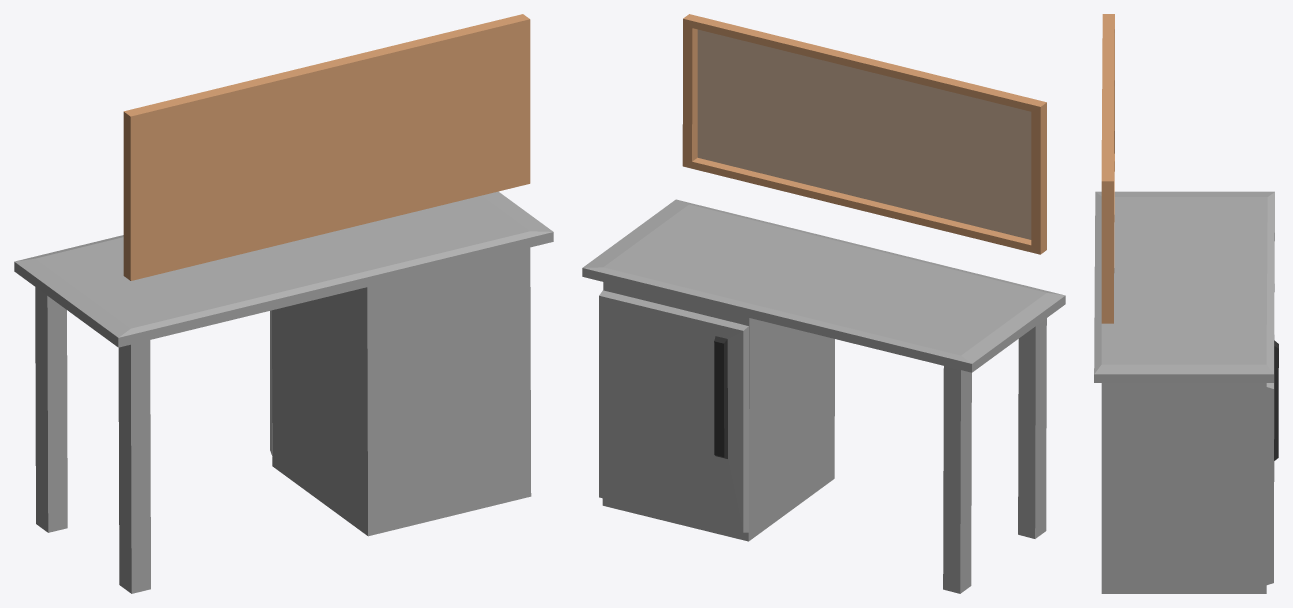
File: HardwareDesk.fbx
3 views of the same model, side by side, from view 1: azimuth 30°, elevation 25°; view 2: azimuth 150°, elevation 25°; view 3: azimuth 270°, elevation 25° (orthographic). The views are drawn at different scales.
Visible parts, largest first — view 1: HardwareDesk, DeskWall; view 2: HardwareDesk, DeskWall, HardwareDoor; view 3: HardwareDesk, DeskWall, HardwareDoor.
Part boxes in pixels (bbox=[...]): HardwareDesk: bbox=[14, 191, 553, 593]; DeskWall: bbox=[123, 14, 530, 280]; HardwareDesk: bbox=[582, 199, 1065, 593]; DeskWall: bbox=[682, 14, 1046, 254]; HardwareDoor: bbox=[599, 290, 748, 532]; HardwareDesk: bbox=[1094, 191, 1274, 593]; DeskWall: bbox=[1101, 14, 1114, 323]; HardwareDoor: bbox=[1266, 340, 1278, 584].
Bounding box in the file's own units: 1.51 × 0.6425 × 1.58.
